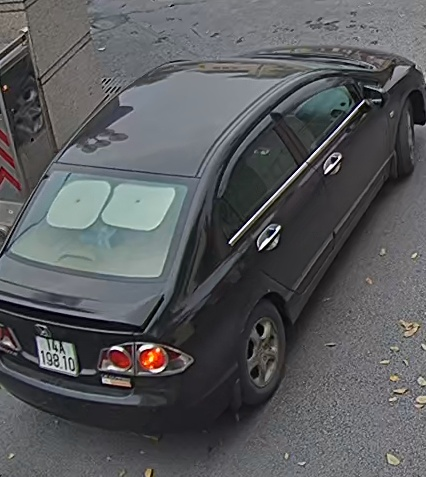vehicle plate: (34, 333, 81, 381)
